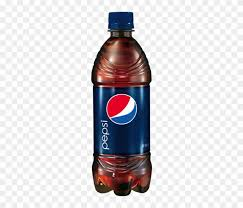bottle: (91, 11, 153, 196)
pepsi: (106, 93, 139, 126), (100, 119, 111, 151)
plastic: (93, 15, 157, 195)
